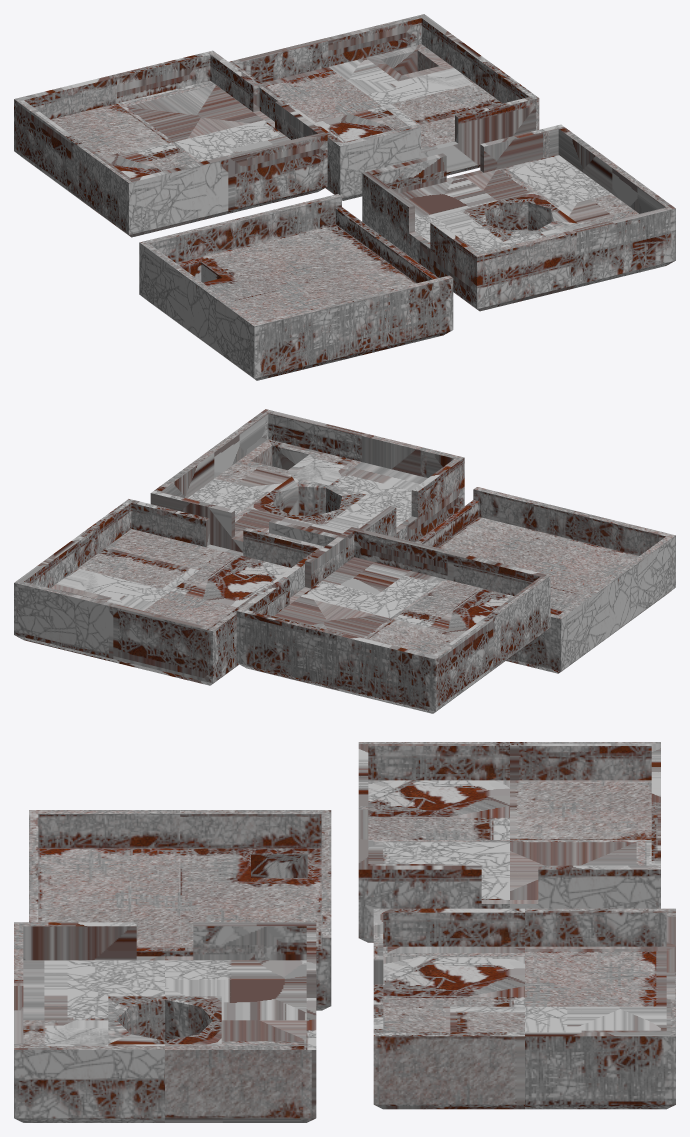
Rendered from Stage3.fbx.
3 renders of one model, top to bottom at view 1: azimuth 30°, elevation 25°; view 2: azimuth 150°, elevation 25°; view 3: azimuth 270°, elevation 25°, orthographic. The views are drawn at different scales.
Visible parts, largest first — view 1: Temp.003, Temp.004, Temp.002, Temp.005; view 2: Temp.003, Temp.005, Temp.002, Temp.004; view 3: Temp.005, Temp.002, Temp.003, Temp.004.
Boxes of the visible parts, bbox=[...] form: Temp.003: bbox=[14, 50, 327, 237]; Temp.004: bbox=[139, 194, 453, 380]; Temp.002: bbox=[362, 124, 675, 311]; Temp.005: bbox=[228, 14, 539, 200]; Temp.003: bbox=[236, 527, 550, 713]; Temp.005: bbox=[14, 499, 324, 685]; Temp.002: bbox=[150, 409, 464, 552]; Temp.004: bbox=[415, 487, 675, 673]; Temp.005: bbox=[373, 908, 675, 1109]; Temp.002: bbox=[14, 922, 316, 1122]; Temp.003: bbox=[358, 742, 660, 942]; Temp.004: bbox=[29, 810, 331, 1010].
Size of the model in its own units: 422 by 107 by 442.
